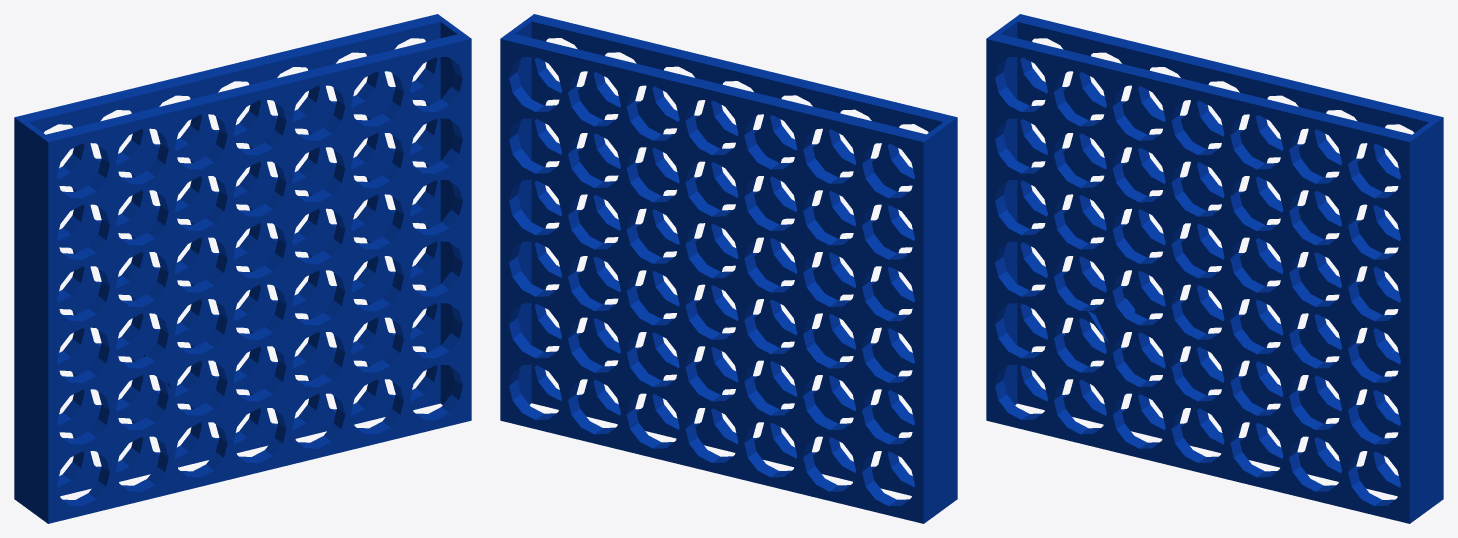
File: Board.obj
3 renders of one model, left to right at view 1: azimuth 30°, elevation 25°; view 2: azimuth 150°, elevation 25°; view 3: azimuth 330°, elevation 25°, orthographic.
Visible parts, largest first — view 1: Board; view 2: Board; view 3: Board.
Boxes of the visible parts, x1,y1,x2,y2 form: Board: (14,14,471,523); Board: (500,14,957,523); Board: (986,14,1443,523).
Bounding box in the file's own units: 7.2 × 6.2 × 1.
